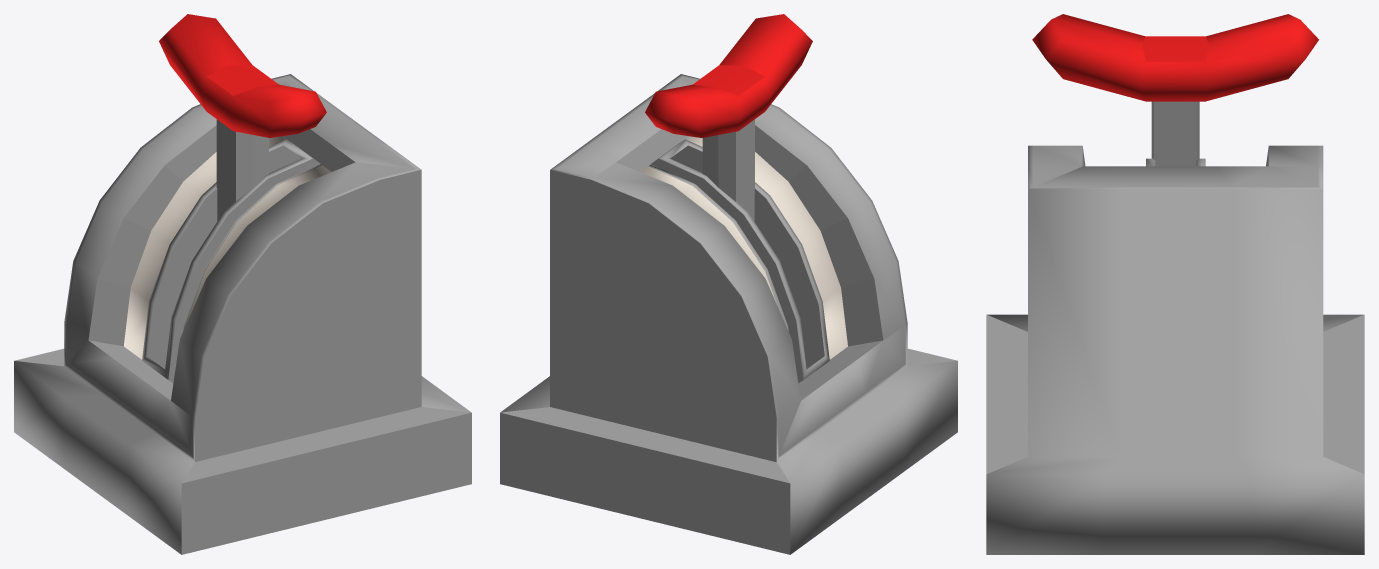
File: Lever.glb
3 views of the same model, side by side, from view 1: azimuth 30°, elevation 25°; view 2: azimuth 150°, elevation 25°; view 3: azimuth 270°, elevation 25° (orthographic). The views are drawn at different scales.
Parts seen in each view (by area): view 1: LeverBase, LeverHandle; view 2: LeverBase, LeverHandle; view 3: LeverBase, LeverHandle.
Part boxes in pixels (x1,y1,x2,y2): LeverBase: (14, 74, 471, 554); LeverHandle: (159, 14, 326, 221); LeverBase: (500, 74, 957, 554); LeverHandle: (645, 14, 812, 221); LeverBase: (986, 145, 1364, 554); LeverHandle: (1032, 14, 1318, 166).
Size of the model in its own units: 0.6945 by 0.9231 by 0.6945.
Materials: 1 (1 with a texture image).
